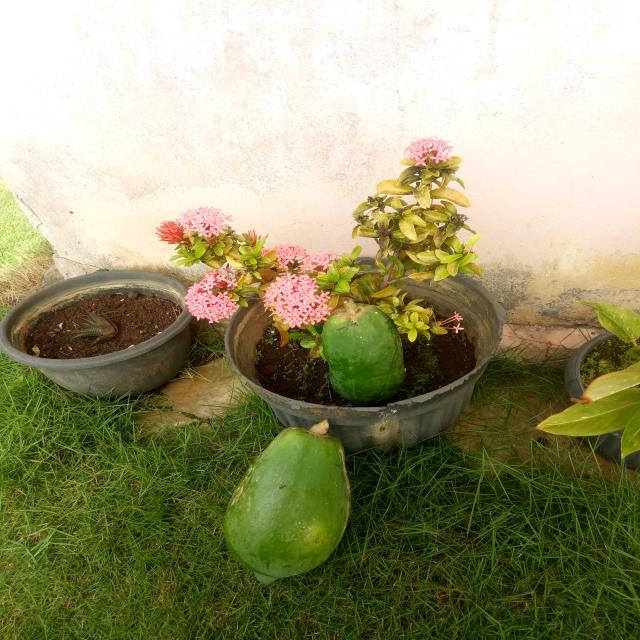Pepaya unrippen: (224, 428, 363, 593), (322, 303, 413, 399)
